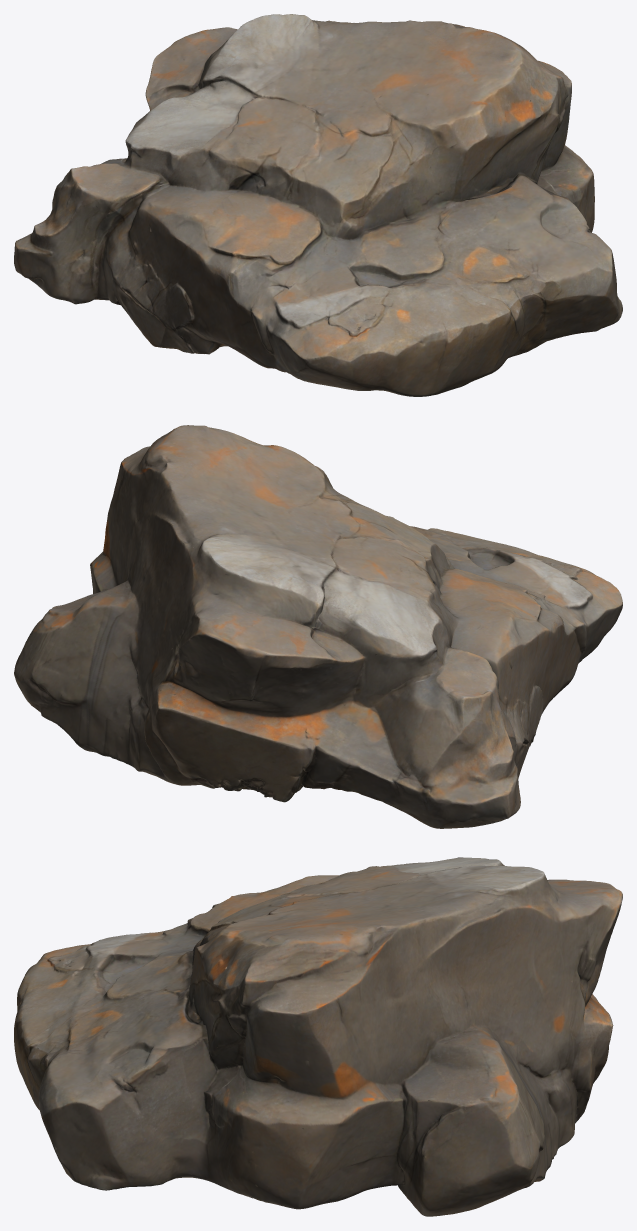
File: Stone.glb
The picture shows the model from 3 angles, top to bottom: view 1: azimuth 30°, elevation 25°; view 2: azimuth 150°, elevation 25°; view 3: azimuth 270°, elevation 25°; orthographic projection. The views are drawn at different scales.
Visible parts, largest first — view 1: Mesh_0; view 2: Mesh_0; view 3: Mesh_0.
Boxes of the visible parts, box(x1,y1,x2,y2) form: Mesh_0: box(14, 14, 622, 396); Mesh_0: box(14, 425, 622, 828); Mesh_0: box(14, 857, 622, 1216).
Size of the model in its own units: 0.2493 by 0.12 by 0.2403.
Materials: 1 (1 with a texture image).
